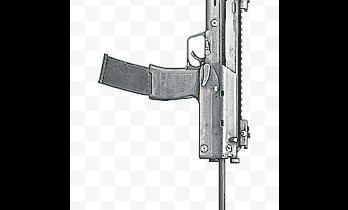gun: (98, 0, 249, 210)
